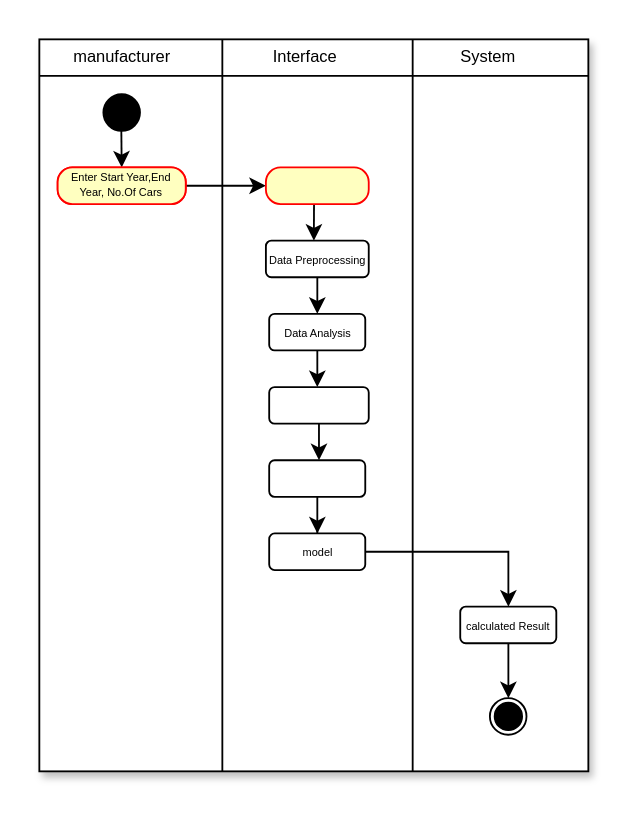
Some shapes in this 631 by 816 pixel diagram are drawn without their labels. Here are the shapes that lost their labels. From the top down, the centre of each, then its label:
At [316,185]: "Data Collection".
At [318,404]: "Machine Learning Algorithms".
At [316,477]: "Predication".
